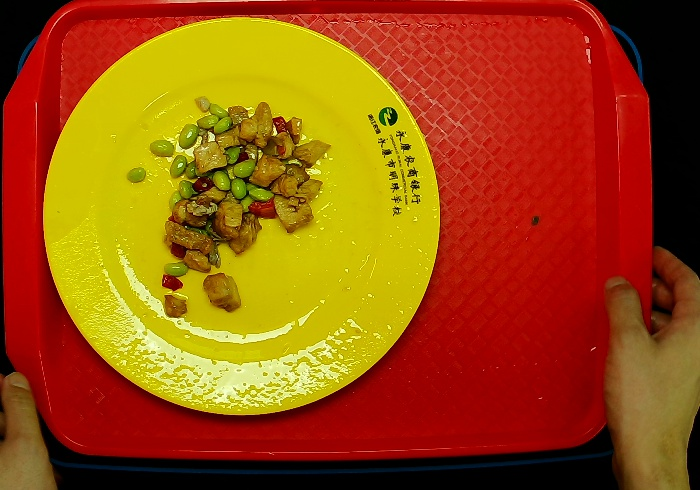YKMZ-Huang_Se_Mian_Pan: (19, 5, 453, 429)
